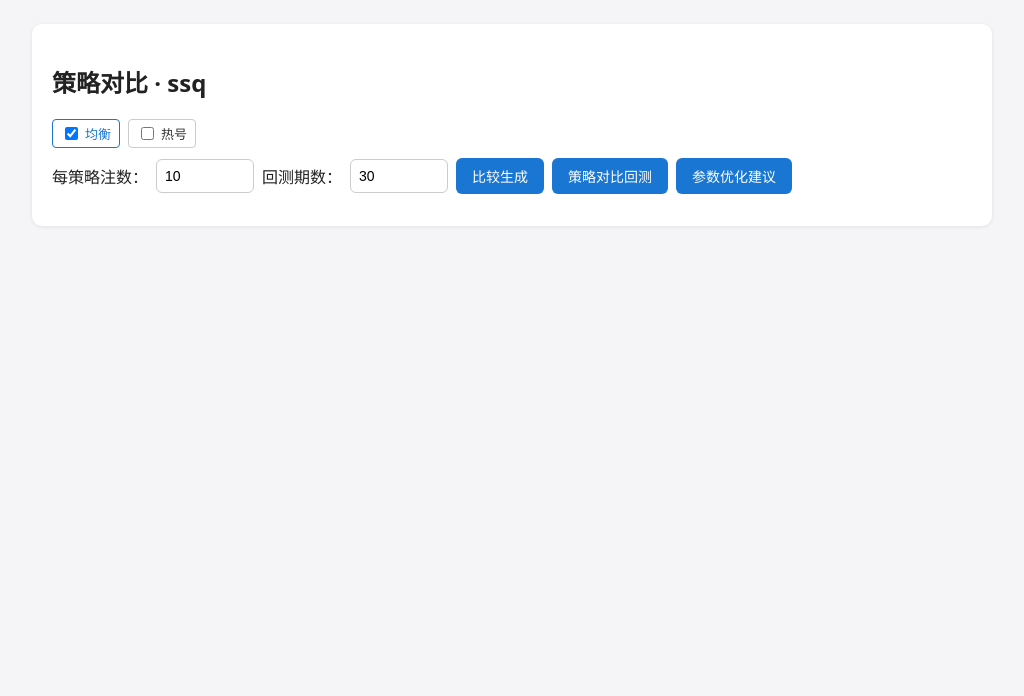
Test: Compare › primary_group 为空时 lo/hi 与 historicalSeries 走回退分支
What coordinates should you click on to do the following:
click the button "比较生成"
I would click on:
 (500, 176)
Its box is [456,158,544,194].
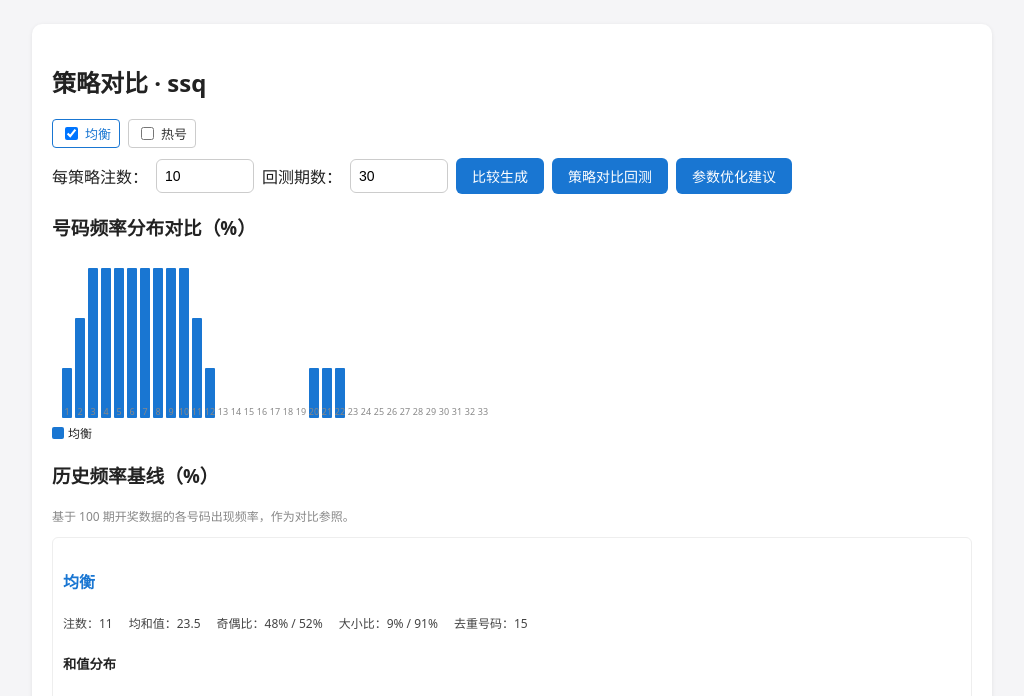
Check: the icon with class "grouped" is shown, box [52,258,501,418]
